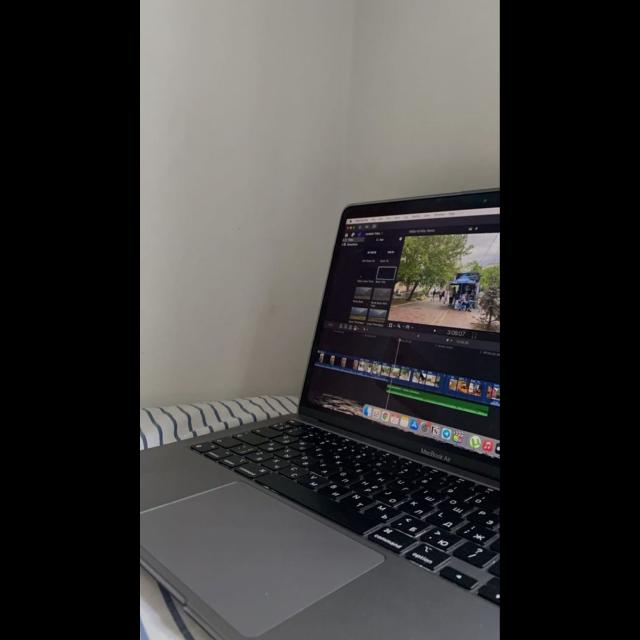laptop: (206, 198, 499, 634)
